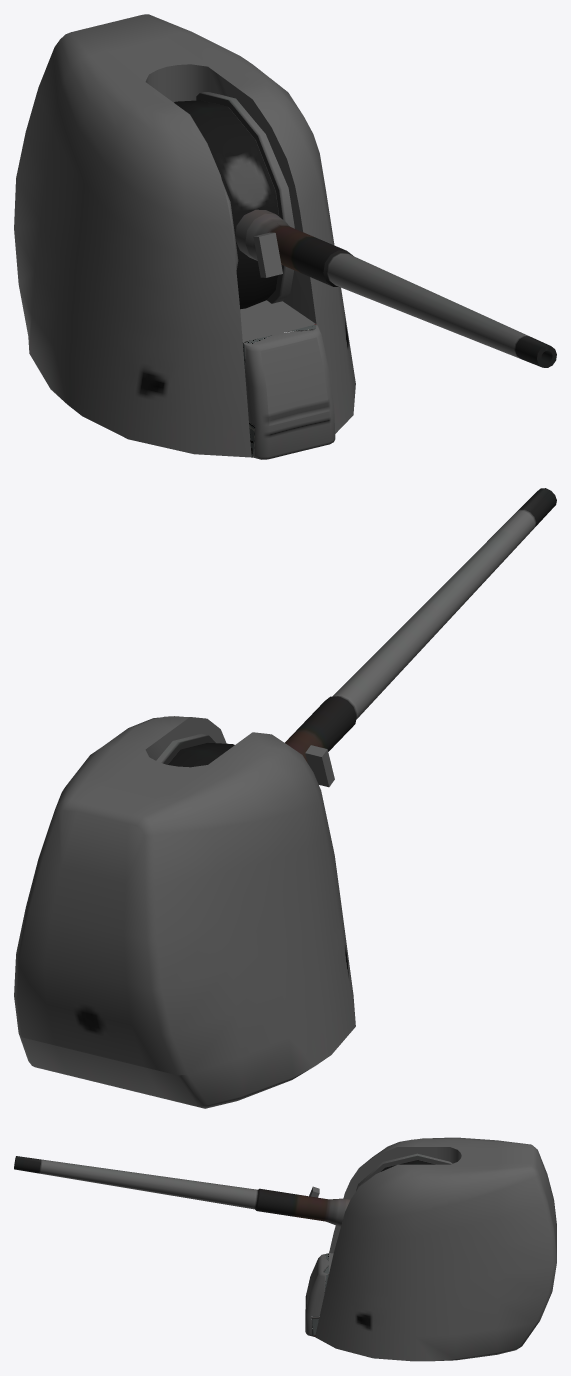
File: gun_main.glb
The picture shows the model from 3 angles, top to bottom: view 1: azimuth 30°, elevation 25°; view 2: azimuth 150°, elevation 25°; view 3: azimuth 270°, elevation 25°; orthographic projection. The views are drawn at different scales.
Visible parts, largest first — view 1: object 1, PITCH_0; view 2: object 1, PITCH_0; view 3: object 1, PITCH_0.
Part boxes in pixels (bbox=[...]): object 1: bbox=[14, 14, 355, 459]; PITCH_0: bbox=[245, 214, 556, 367]; object 1: bbox=[14, 716, 355, 1108]; PITCH_0: bbox=[285, 488, 556, 787]; object 1: bbox=[305, 1137, 556, 1361]; PITCH_0: bbox=[14, 1156, 345, 1248].
Bounding box in the file's own units: 0.8948 × 0.9923 × 2.87.
1 material, 1 textured.
